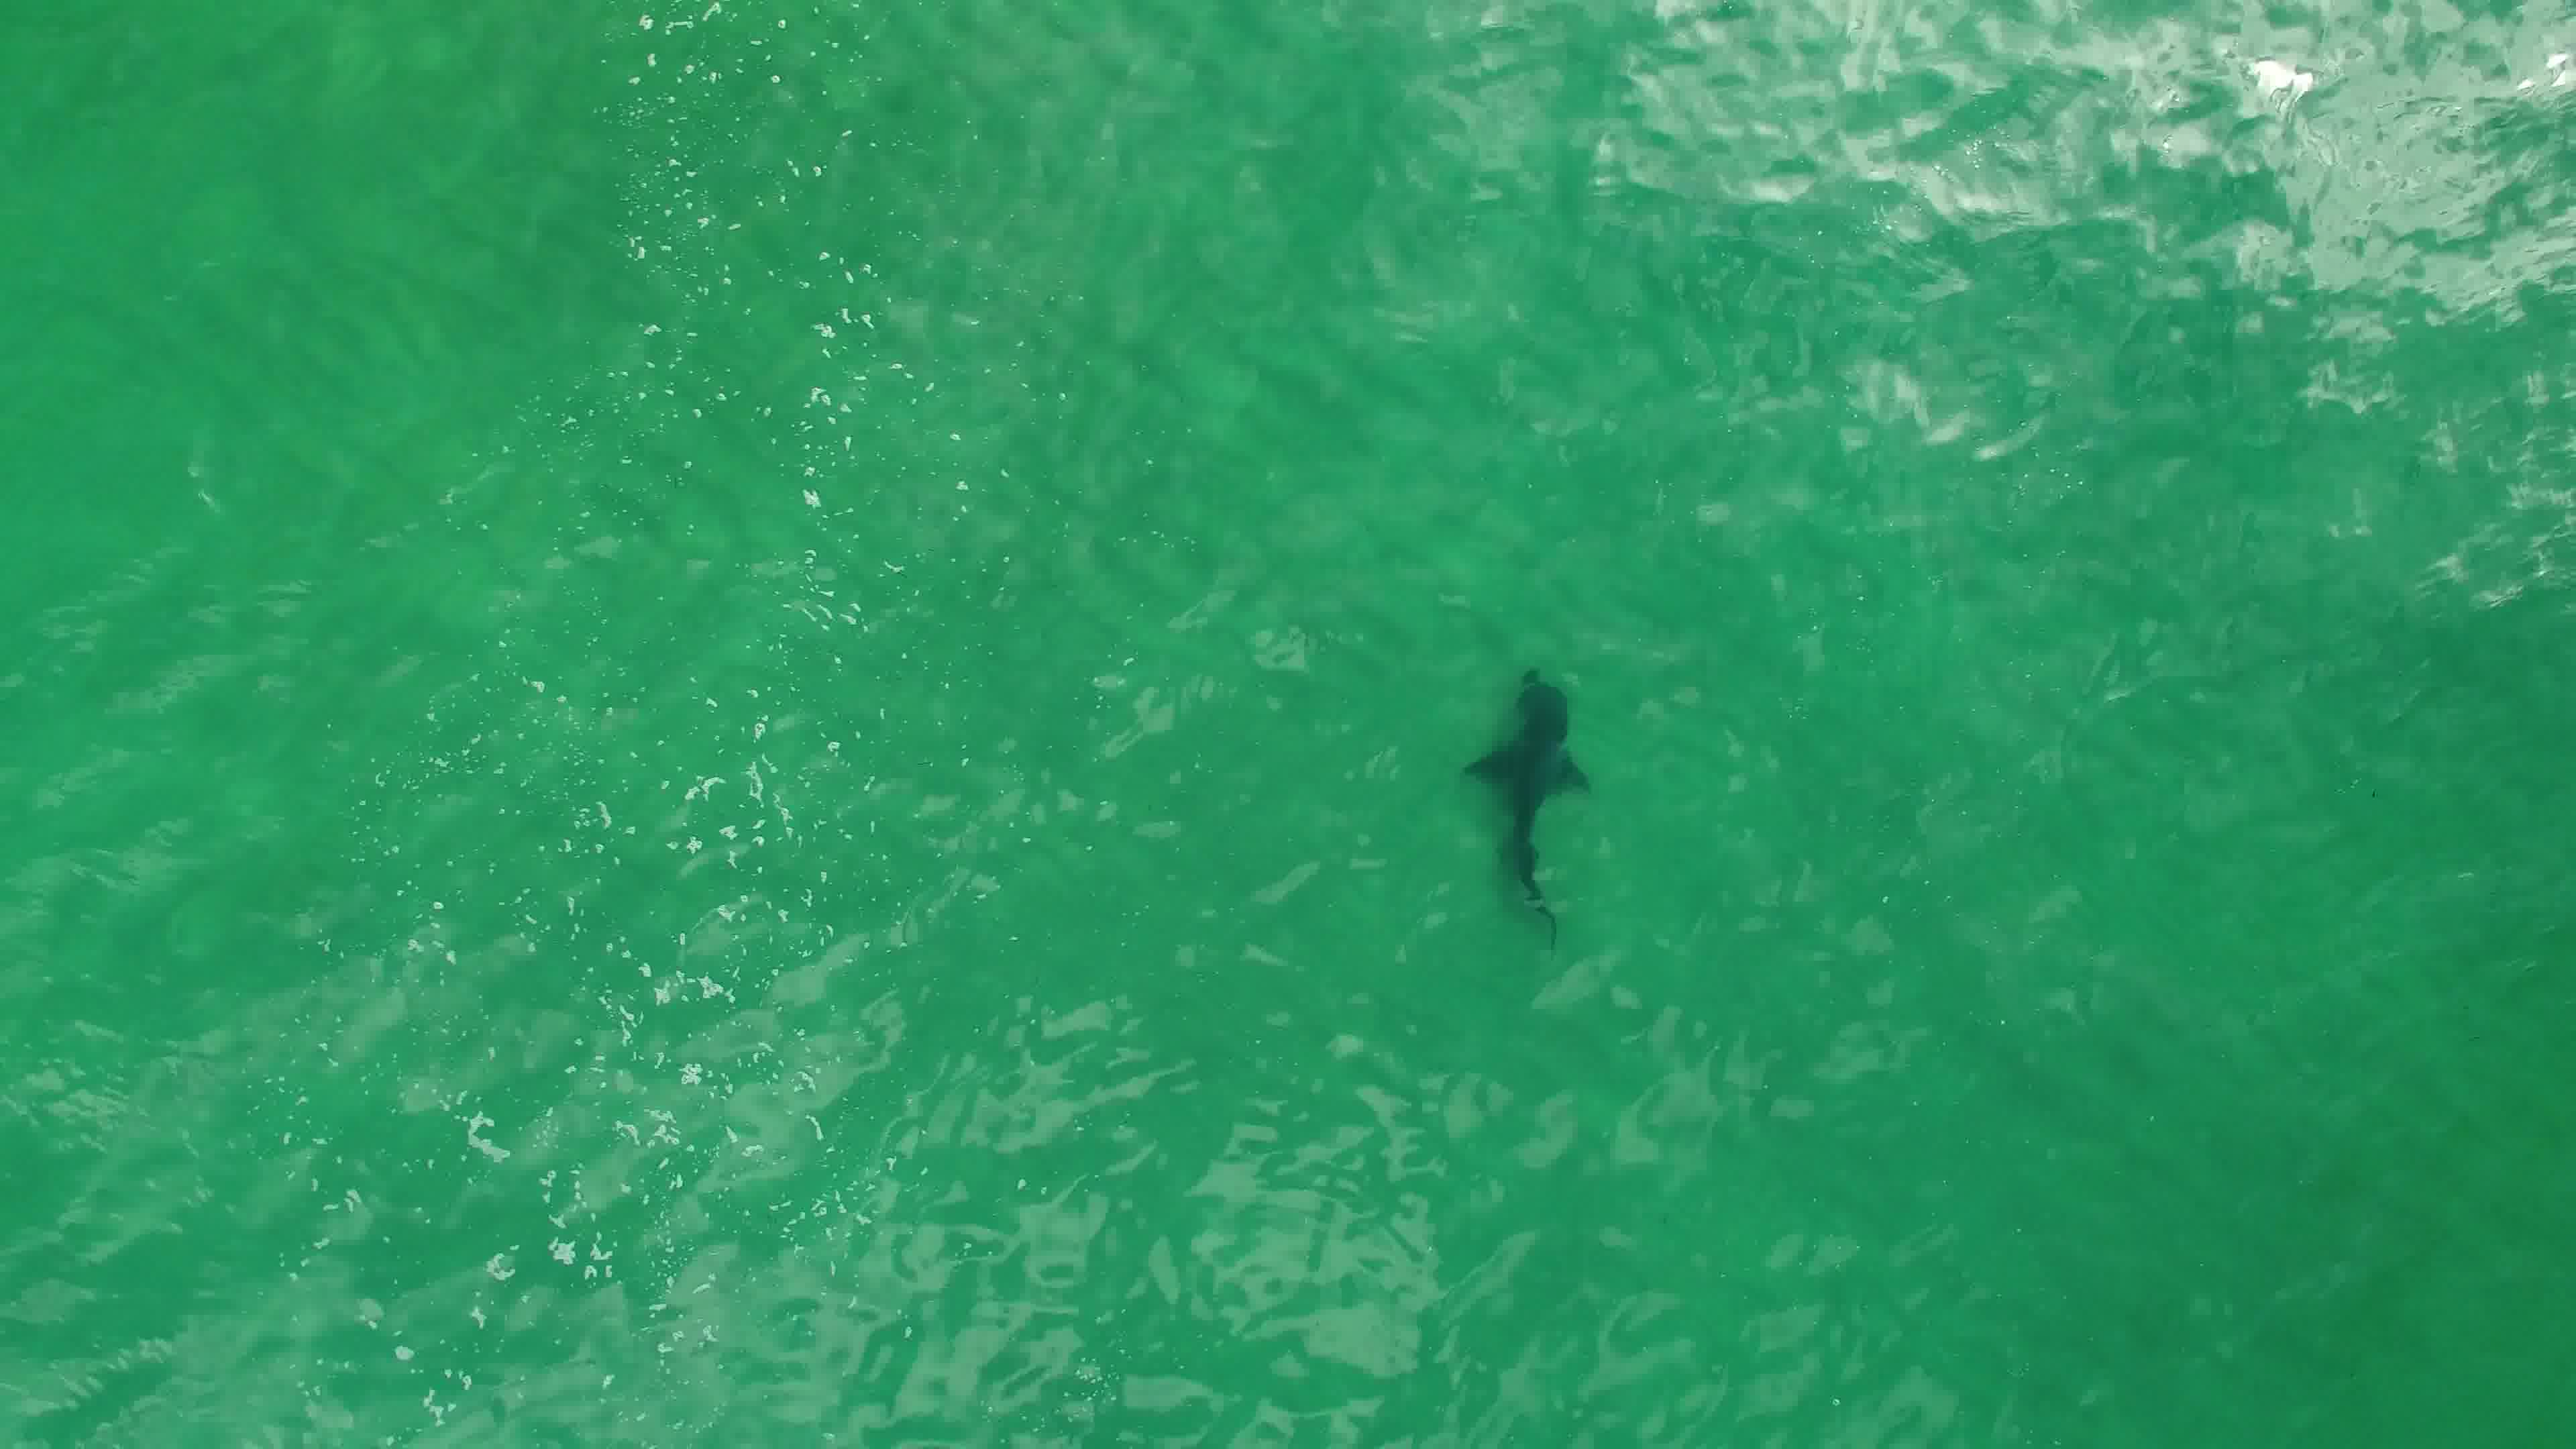shark: (1449, 658, 1598, 962)
